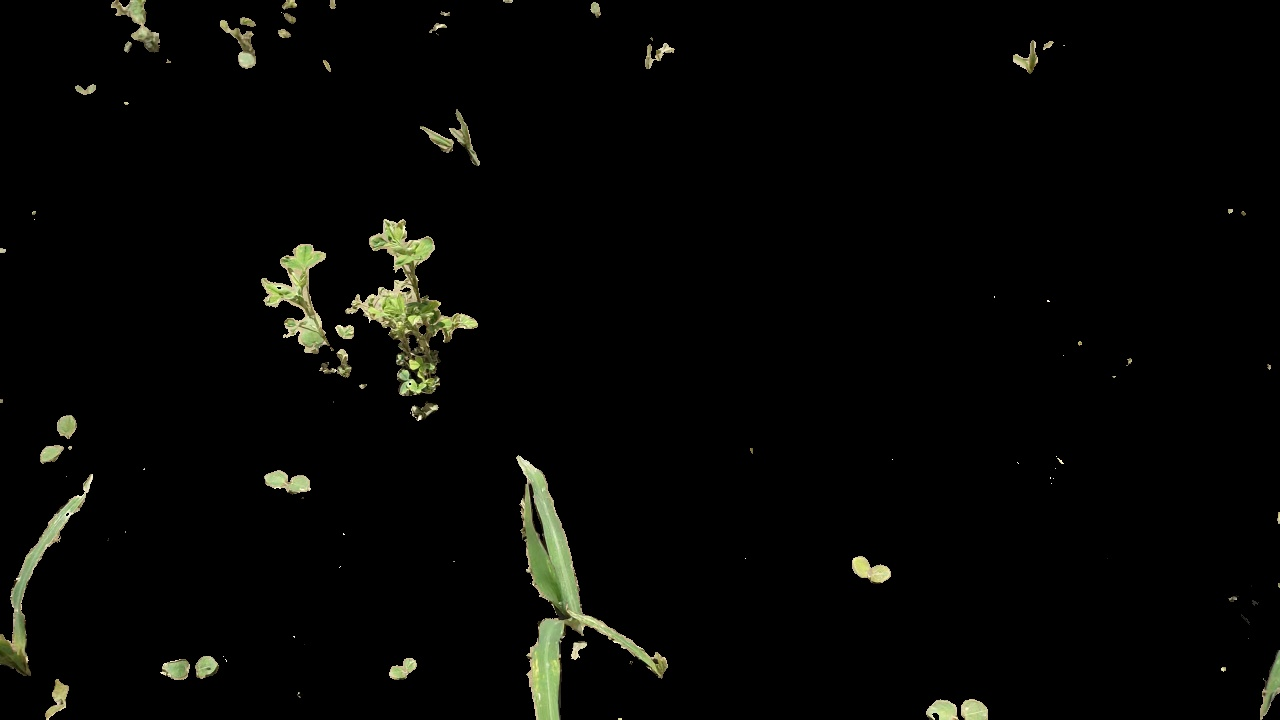crop: (510, 446, 672, 720), (1, 472, 102, 676), (1253, 656, 1280, 719)
weed: (346, 214, 483, 422), (257, 241, 337, 358), (418, 107, 486, 166), (112, 1, 170, 58), (215, 12, 265, 73), (40, 410, 80, 467), (923, 691, 991, 720), (159, 651, 222, 681), (260, 467, 316, 498), (851, 550, 892, 584), (42, 678, 75, 720), (386, 655, 420, 684), (69, 79, 104, 97)
